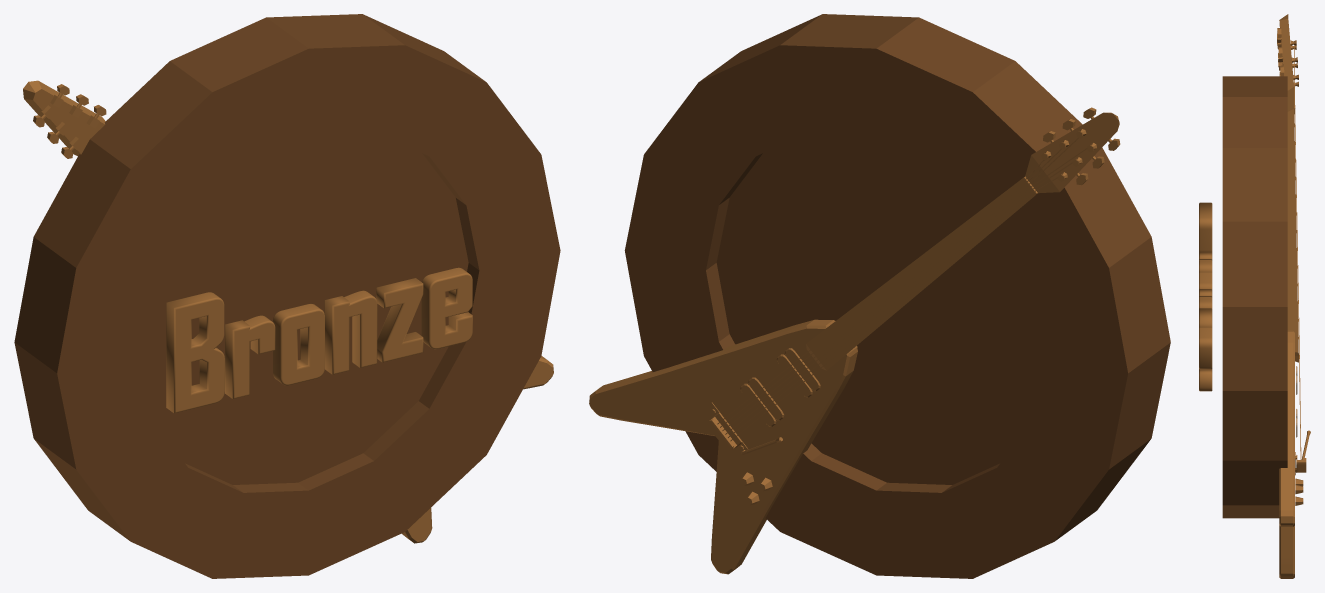
File: Bronze_Guitar.glb
3 views of the same model, side by side, from view 1: azimuth 30°, elevation 25°; view 2: azimuth 150°, elevation 25°; view 3: azimuth 270°, elevation 25° (orthographic). The views are drawn at different scales.
Parts seen in each view (by area): view 1: Coin, Bronze Text, Electric Guitar; view 2: Coin, Electric Guitar; view 3: Coin, Electric Guitar, Bronze Text.
Boxes of the visible parts, x1,y1,x2,y2 form: Coin: (14,14,560,578); Bronze Text: (166,267,472,413); Electric Guitar: (23,80,553,543); Coin: (624,14,1170,578); Electric Guitar: (589,107,1120,574); Coin: (1222,76,1287,518); Electric Guitar: (1277,14,1310,578); Bronze Text: (1199,202,1212,391).
Bounding box in the file's own units: 1.05 × 1.05 × 0.2498.
